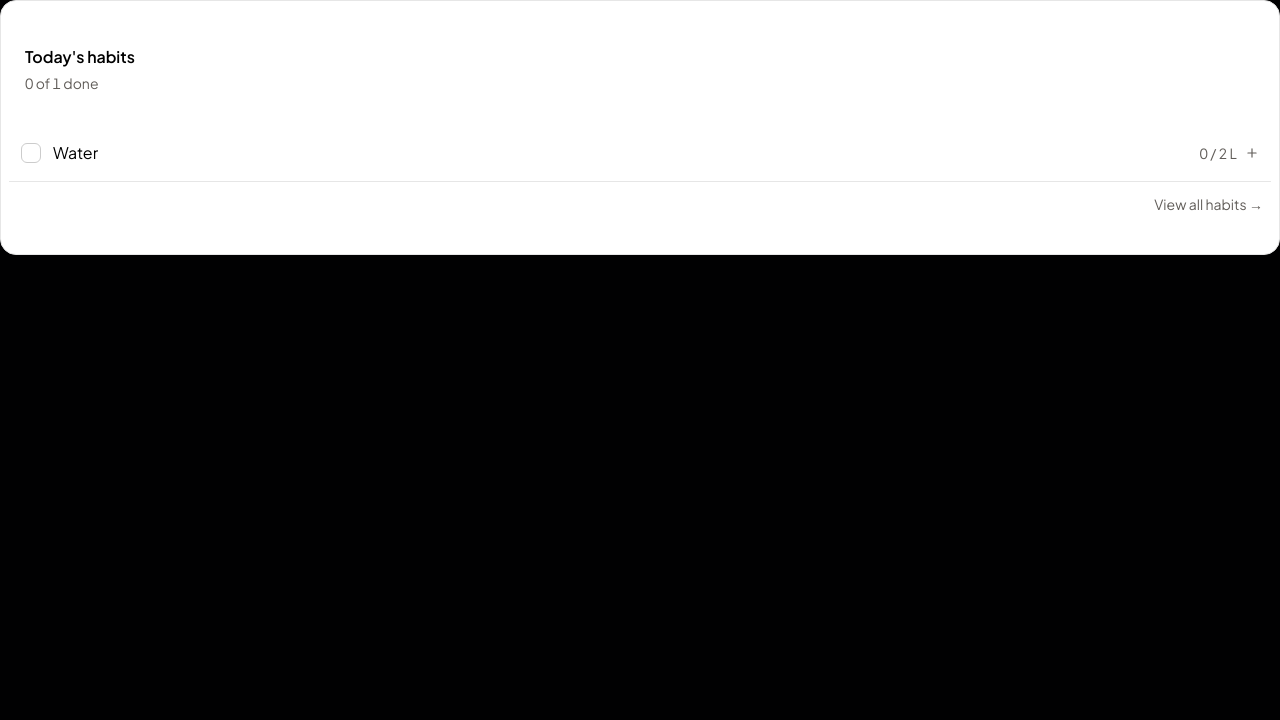
Test: TodayHabitsWidget › opens an AlertDialog when the add-amount button is clicked
Click the button with test id "habit-add-amount": (1252, 153) [1245,146,1259,160]
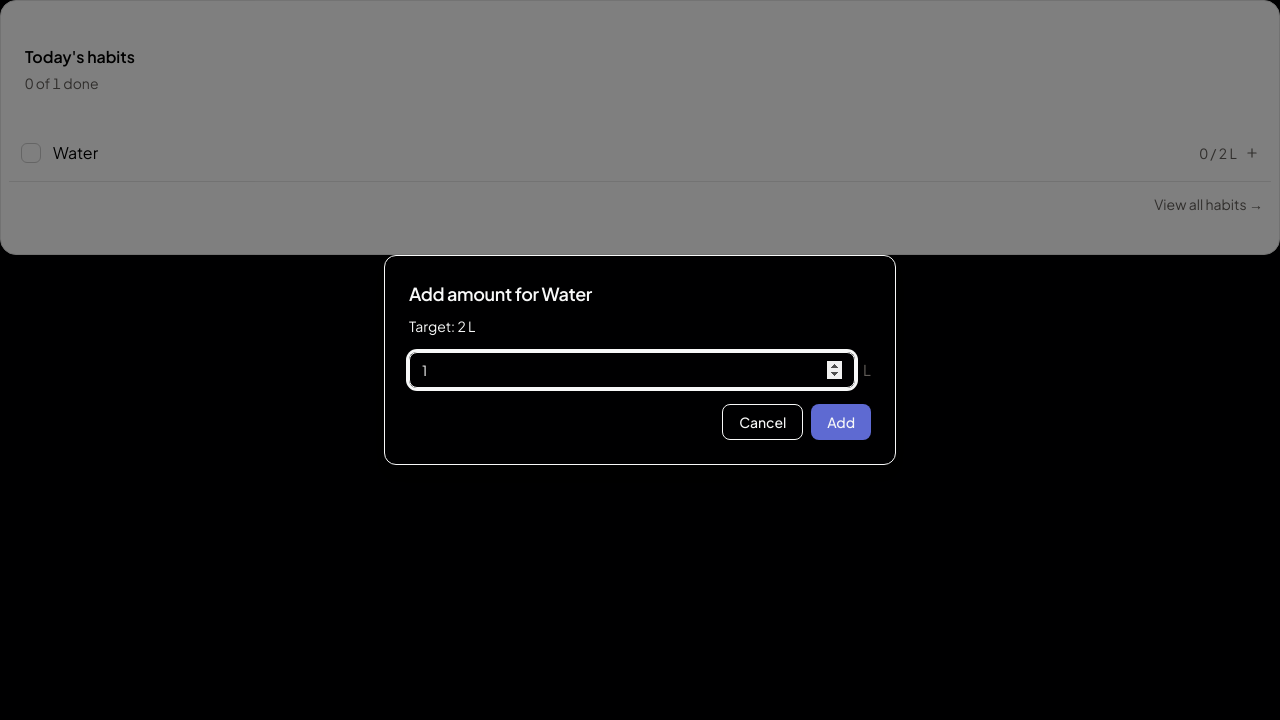
Expected: the dialog is shown, [384,255,896,465]
Expected: the heading "Add amount for Water" is shown, [409,282,592,305]
